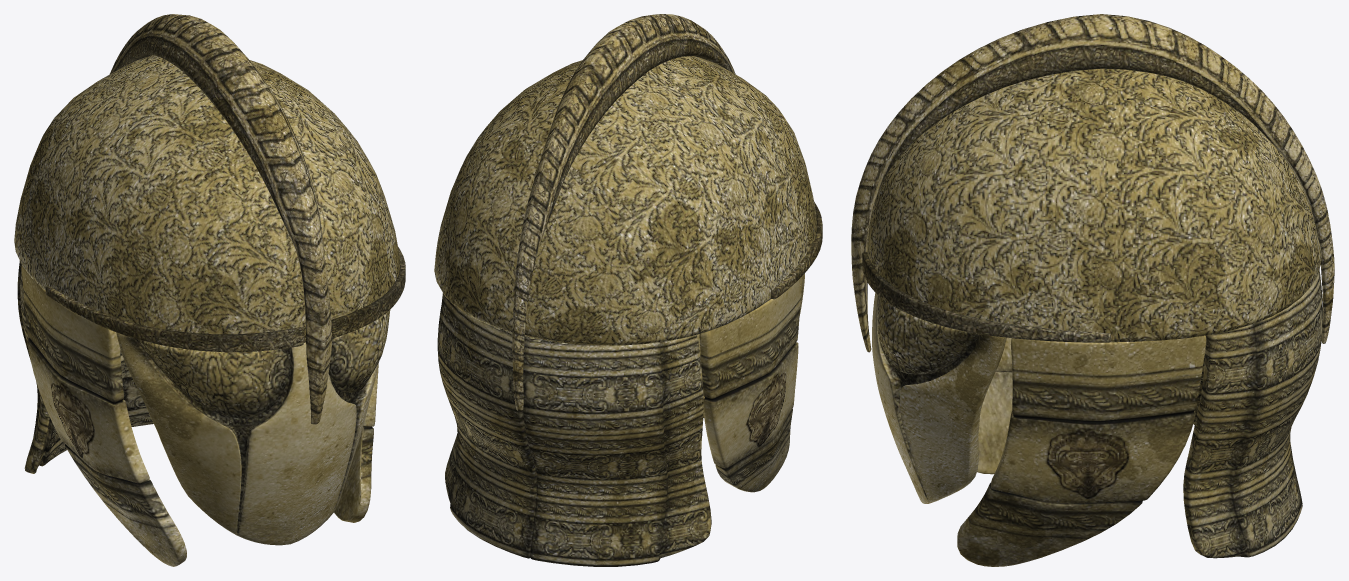
File: playerhead.fbx
3 views of the same model, side by side, from view 1: azimuth 30°, elevation 25°; view 2: azimuth 150°, elevation 25°; view 3: azimuth 270°, elevation 25° (orthographic). The views are drawn at different scales.
Parts seen in each view (by area): view 1: TSFHsutton_15553.Shape; view 2: TSFHsutton_15553.Shape; view 3: TSFHsutton_15553.Shape.
Part boxes in pixels (x1,y1,x2,y2): TSFHsutton_15553.Shape: [14, 14, 405, 566]; TSFHsutton_15553.Shape: [434, 14, 822, 566]; TSFHsutton_15553.Shape: [851, 14, 1334, 566].
Size of the model in its own units: 21.52 by 31.44 by 27.27.
6 materials, 6 textured.
